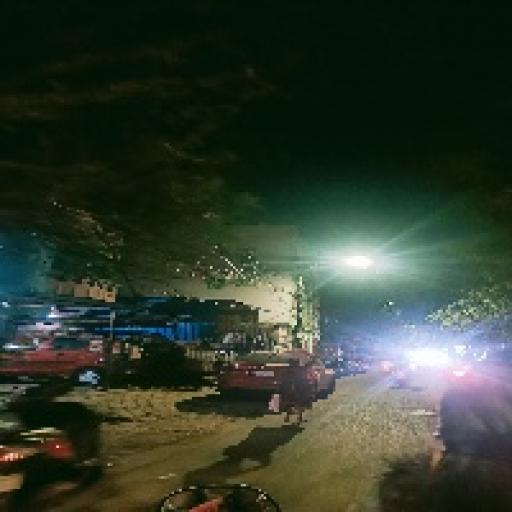Working: (337, 251, 378, 274)
